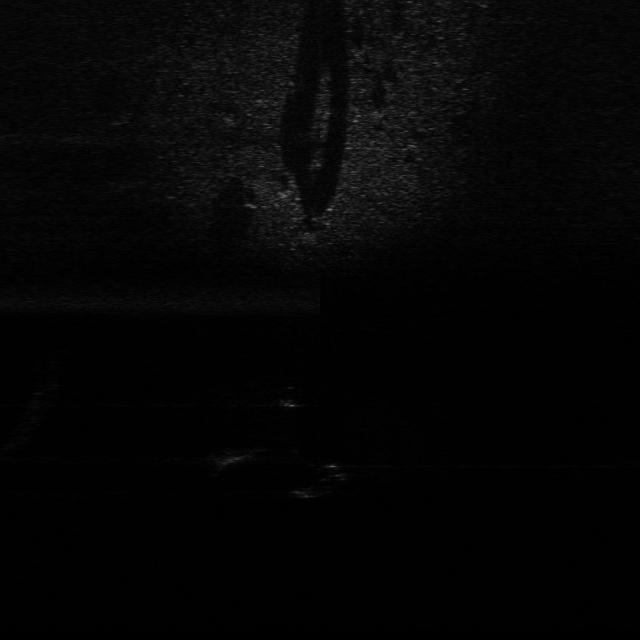ball: (266, 376, 320, 411)
square cage: (207, 443, 271, 473)
tyre: (288, 462, 352, 500)
